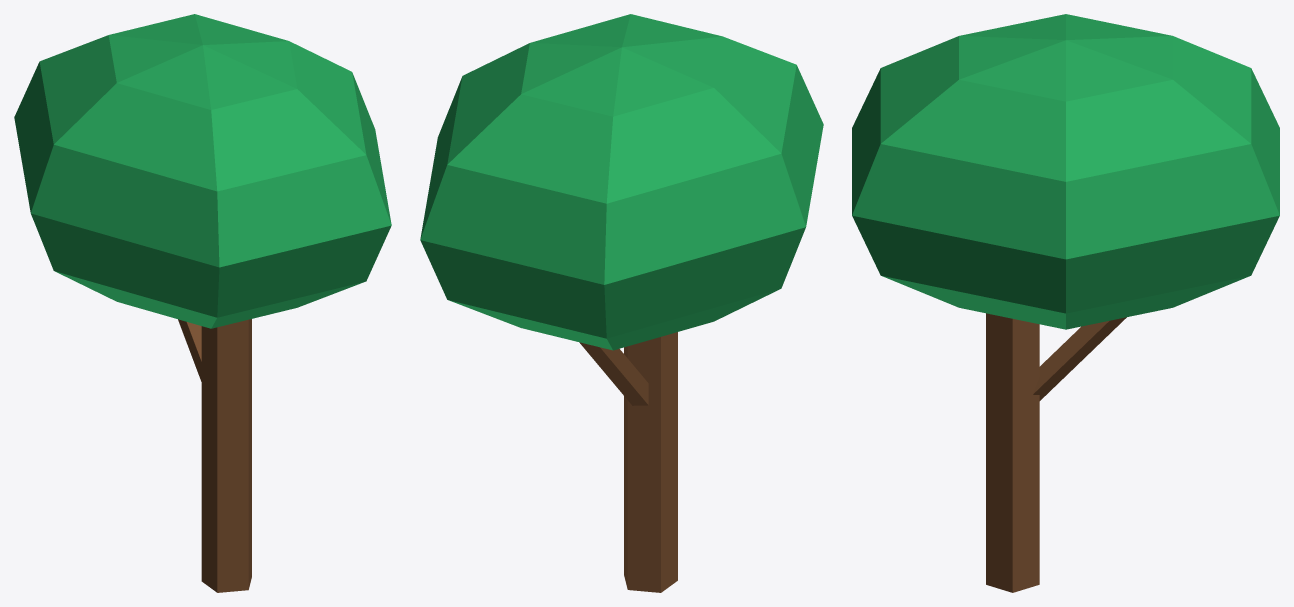
Rendered from geo_Tree_03.fbx.
3 views of the same model, side by side, from view 1: azimuth 30°, elevation 25°; view 2: azimuth 150°, elevation 25°; view 3: azimuth 270°, elevation 25° (orthographic). The views are drawn at different scales.
Visible parts, largest first — view 1: geo_TreeTop_01, geo_treeTrunk_01, geo_treeBranch_02; view 2: geo_TreeTop_01, geo_treeTrunk_01, geo_treeBranch_02; view 3: geo_TreeTop_01, geo_treeTrunk_01, geo_treeBranch_02.
Boxes of the visible parts, x1,y1,x2,y2 form: geo_TreeTop_01: (14,14,391,328); geo_treeTrunk_01: (201,319,251,592); geo_treeBranch_02: (178,319,201,381); geo_TreeTop_01: (420,14,823,350); geo_treeTrunk_01: (624,332,677,592); geo_treeBranch_02: (579,342,648,405); geo_TreeTop_01: (852,14,1279,329); geo_treeTrunk_01: (986,313,1039,592); geo_treeBranch_02: (1033,317,1126,400).
Size of the model in its own units: 162 by 233 by 167.
